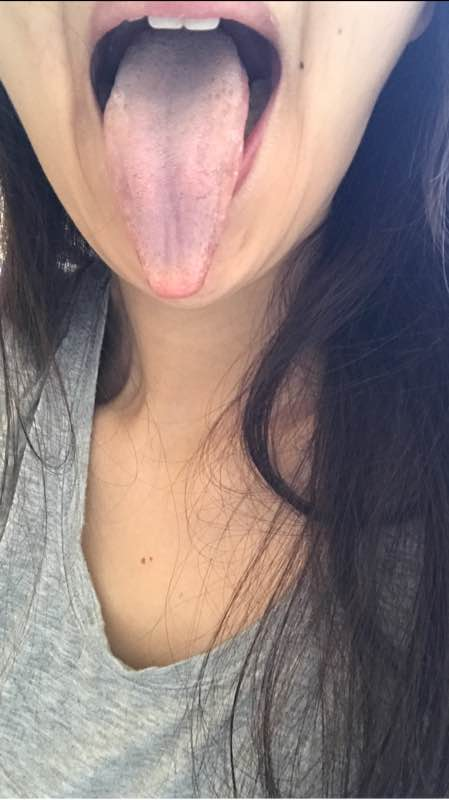baitaishe: (102, 24, 248, 298)
shoushe: (102, 24, 248, 298)
